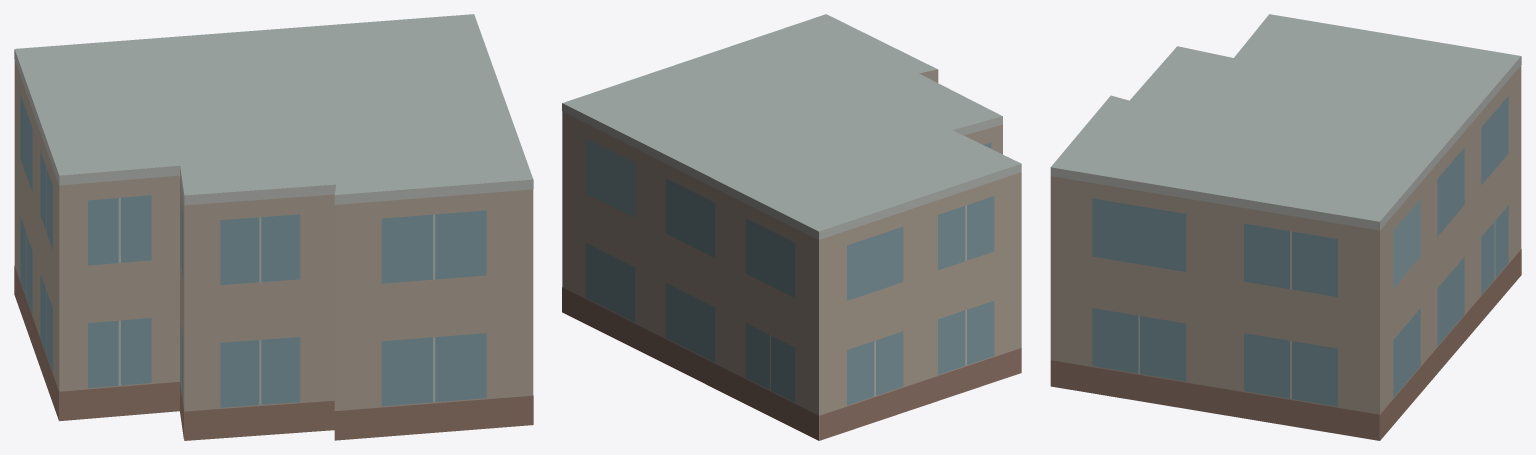
The model's file is survey-upis-32947166.glb.
3 renders of one model, left to right at view 1: azimuth 30°, elevation 25°; view 2: azimuth 150°, elevation 25°; view 3: azimuth 270°, elevation 25°, orthographic. The views are drawn at different scales.
Visible parts, largest first — view 1: survey-upis-32947166.tmp; view 2: survey-upis-32947166.tmp; view 3: survey-upis-32947166.tmp.
Boxes of the visible parts, x1=… form: survey-upis-32947166.tmp: x1=14, y1=14, x2=533, y2=440; survey-upis-32947166.tmp: x1=562, y1=14, x2=1021, y2=440; survey-upis-32947166.tmp: x1=1050, y1=14, x2=1521, y2=440.
Size of the model in its own units: 12.42 by 6.1 by 11.89.
